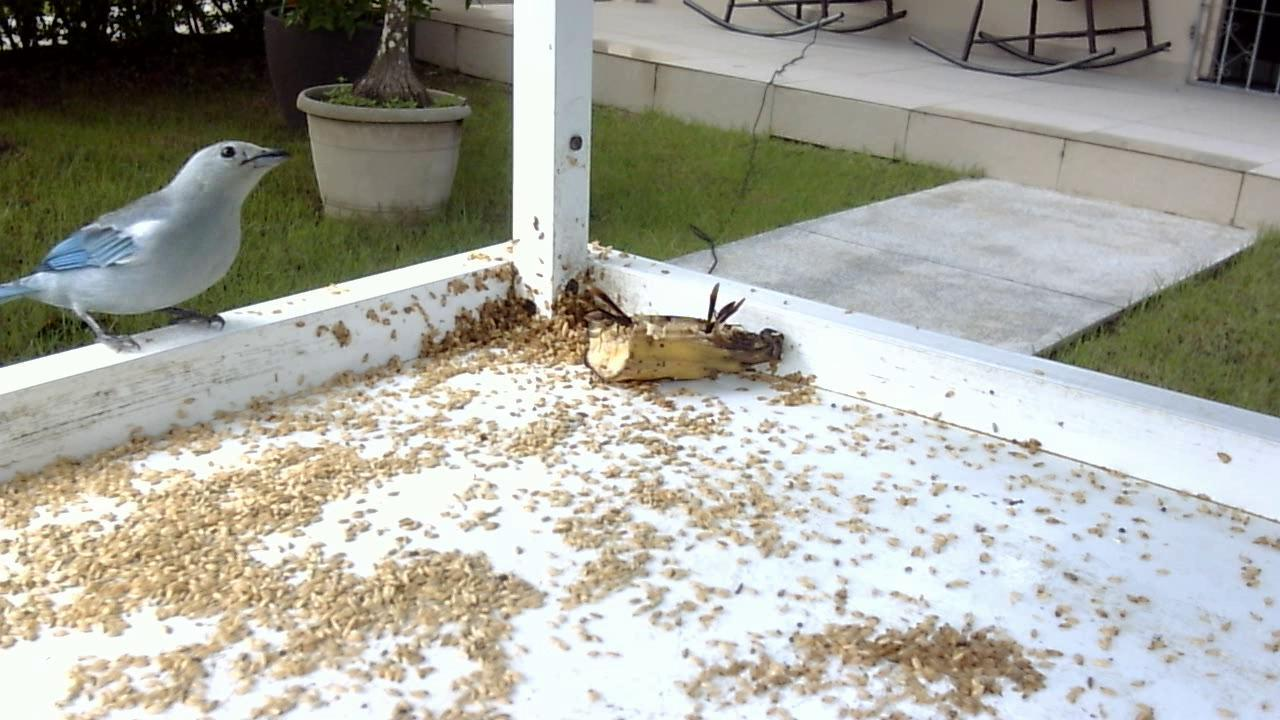sanhaco_da_amazonia: (1, 133, 293, 363)
